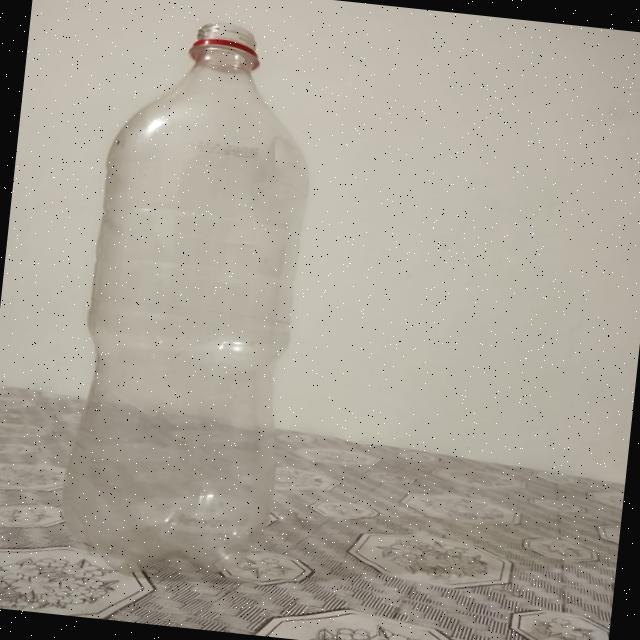bottle: (60, 15, 312, 572)
